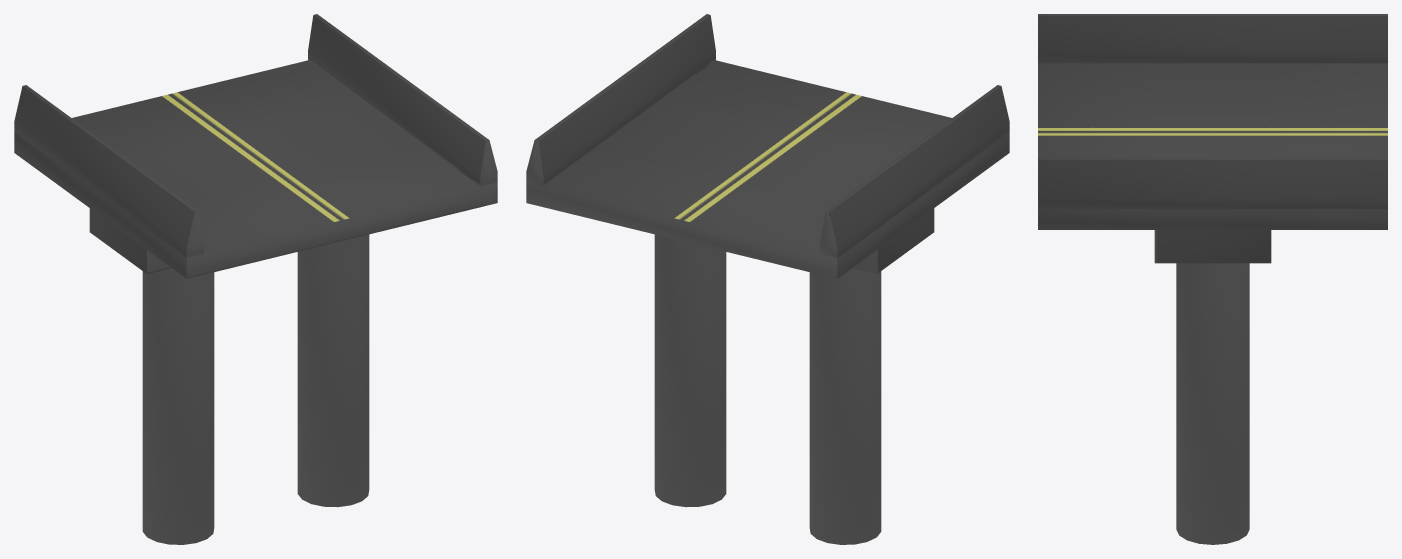
The model's file is straight.glb.
3 views of the same model, side by side, from view 1: azimuth 30°, elevation 25°; view 2: azimuth 150°, elevation 25°; view 3: azimuth 270°, elevation 25° (orthographic).
Parts seen in each view (by area): view 1: Cylinder.006; view 2: Cylinder.006; view 3: Cylinder.006.
Boxes of the visible parts, x1,y1,x2,y2 form: Cylinder.006: [14, 14, 497, 544]; Cylinder.006: [526, 14, 1009, 544]; Cylinder.006: [1038, 14, 1387, 544].
Size of the model in its own units: 31.28 by 38.23 by 30.
